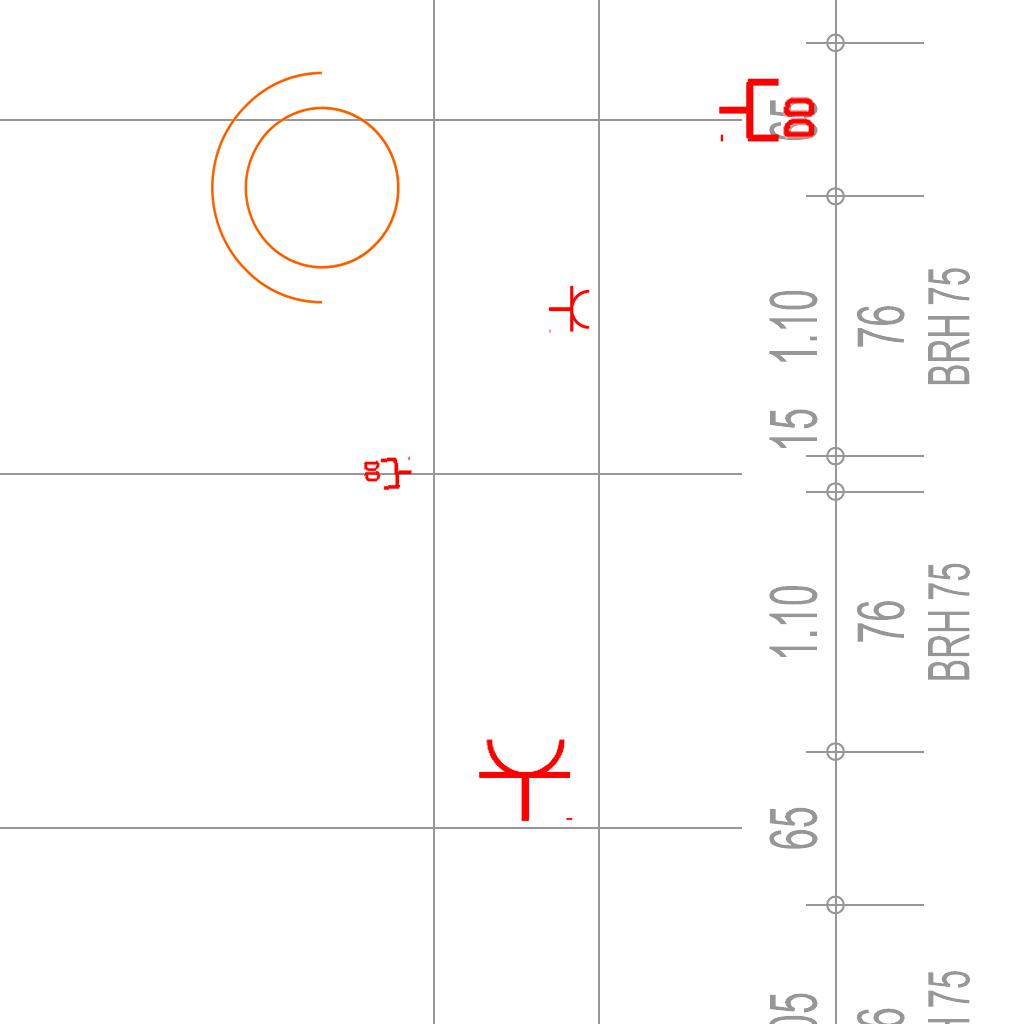Datenanschluss_zweifach: (716, 74, 819, 143), (361, 455, 415, 494)
Scheinwerfer_fuer_Alarmbeleuchtung: (200, 62, 425, 326)
Schukosteckdose_einfach: (477, 736, 577, 823), (548, 285, 591, 335)
